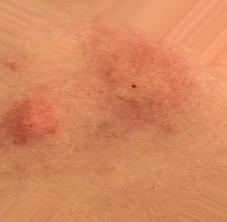Tick: (101, 49, 173, 123), (2, 94, 59, 143)
